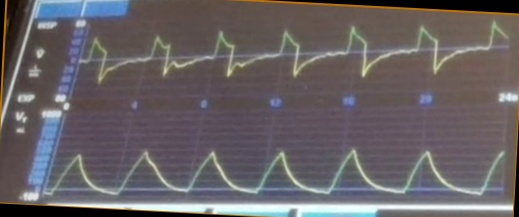Premature_cycling Flow: (86, 20, 508, 87)
Premature_cycling Volume: (54, 142, 502, 199)
